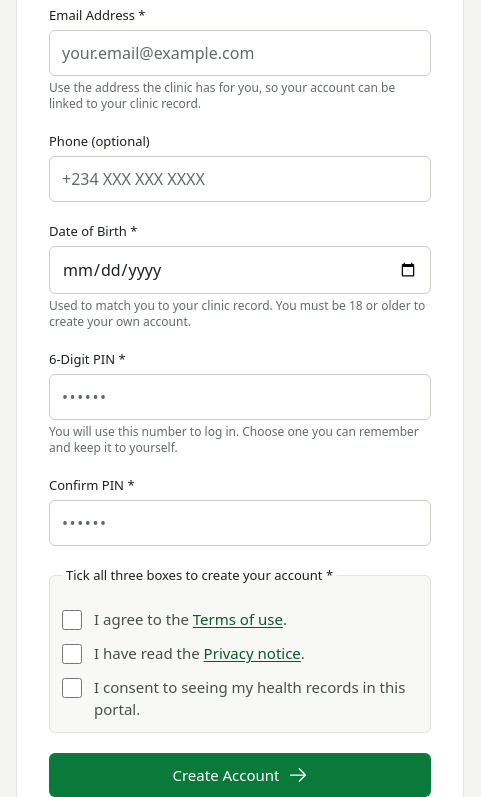
Test: PatientRegister (offline mode) › shows error when PIN is not 6 digits
(page scrolled)
Type "12" into the password field labelled "6-Digit PIN *".
click(240, 397); type("12")  # box [49,374,431,420]
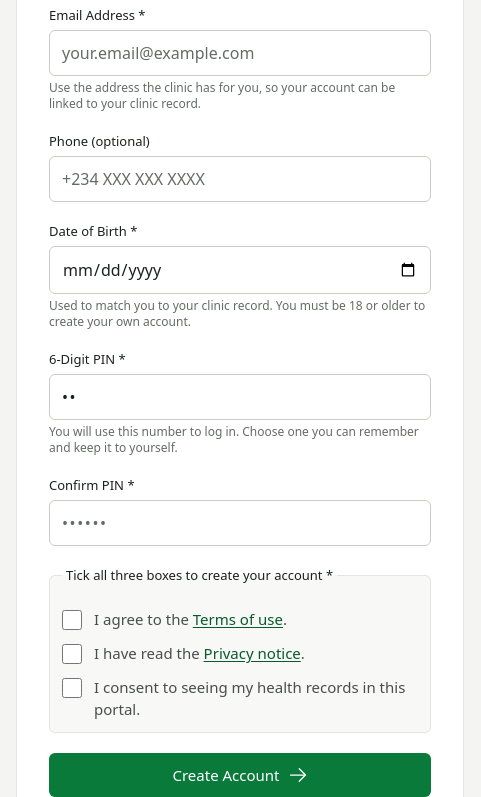
Submit the form from the button "Create Account", box [49,753,431,796]
(page scrolled)
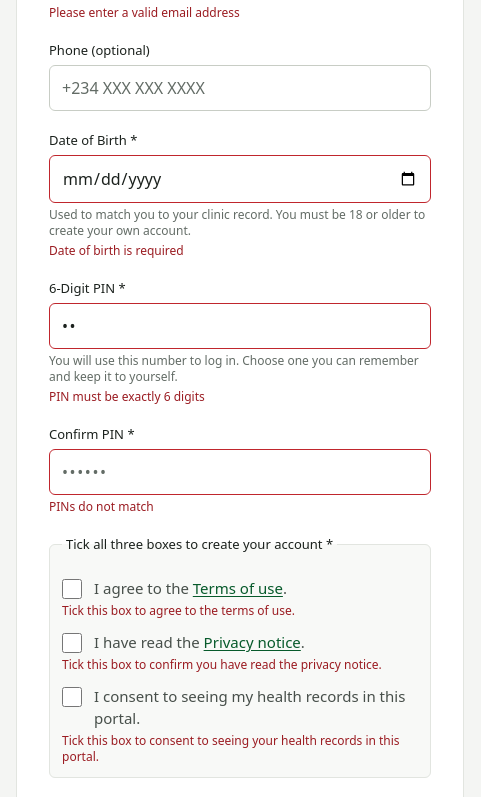
expect the text "PIN must be exactly 6 digits" is shown: met, box [49,388,205,405]
